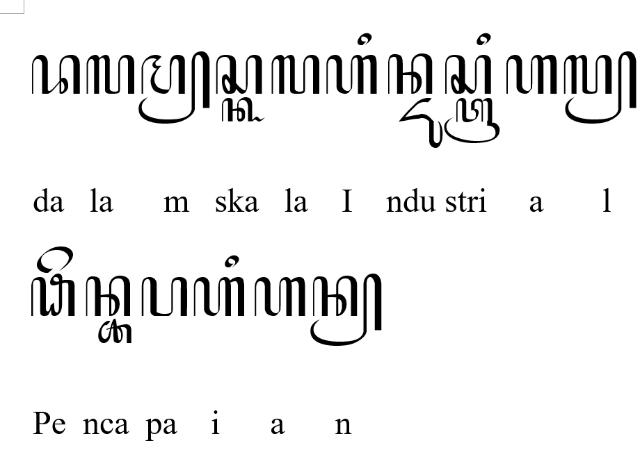-l: (563, 50, 637, 124)
-m: (138, 50, 212, 126)
-n: (310, 272, 382, 348)
P: (30, 274, 76, 318)
_c: (98, 318, 132, 346)
_du: (396, 96, 444, 150)
_k: (220, 97, 266, 123)
d: (31, 54, 81, 94)
e: (36, 246, 74, 274)
h: (193, 276, 245, 318), (252, 277, 306, 317), (326, 54, 378, 94), (506, 54, 558, 94)
i: (358, 32, 372, 48), (476, 32, 492, 46), (224, 254, 240, 268)
l: (86, 54, 136, 96), (271, 54, 321, 96)
n: (85, 276, 131, 318), (388, 54, 432, 94)
p: (140, 275, 188, 319)
s: (215, 53, 263, 96), (444, 54, 492, 96)
tr: (444, 98, 501, 144)
